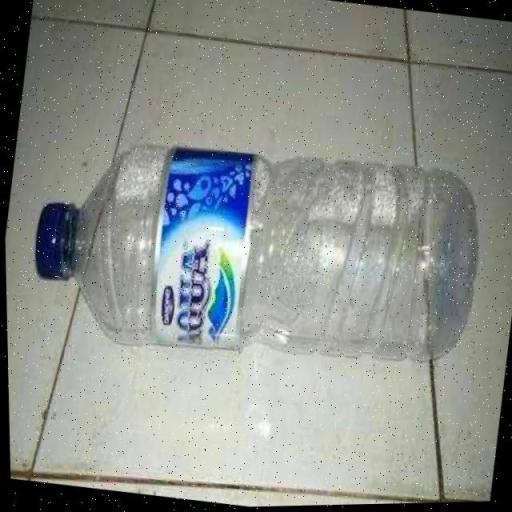plastic: (18, 116, 496, 395)
